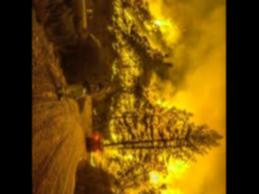fire: (112, 0, 178, 110), (126, 157, 195, 194)
